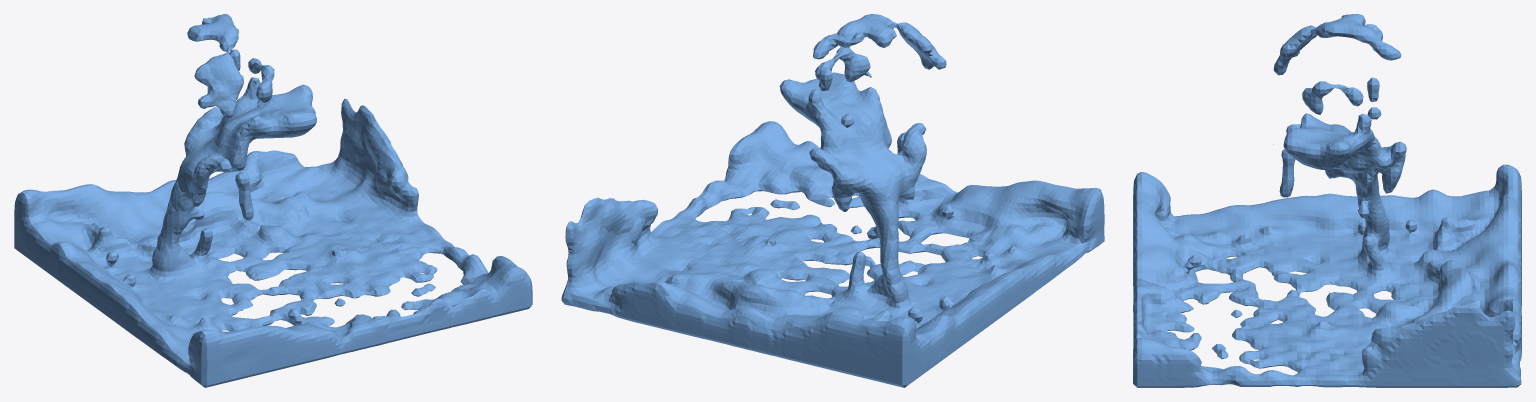
Rendered from water_0083.glb.
3 views of the same model, side by side, from view 1: azimuth 30°, elevation 25°; view 2: azimuth 150°, elevation 25°; view 3: azimuth 270°, elevation 25° (orthographic). The views are drawn at different scales.
Parts seen in each view (by area): view 1: Water_0083; view 2: Water_0083; view 3: Water_0083.
Part boxes in pixels (x1,y1,x2,y2): Water_0083: (14, 14, 532, 387); Water_0083: (561, 14, 1104, 387); Water_0083: (1133, 14, 1521, 387).
Bounding box in the file's own units: 4.83 × 3.63 × 4.83.
